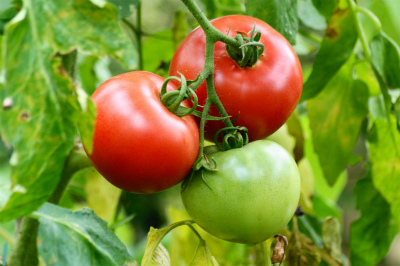stems: (167, 67, 207, 106), (214, 96, 240, 149), (213, 28, 250, 58)
tomato: (168, 13, 303, 145), (80, 70, 201, 192), (180, 139, 302, 246)
